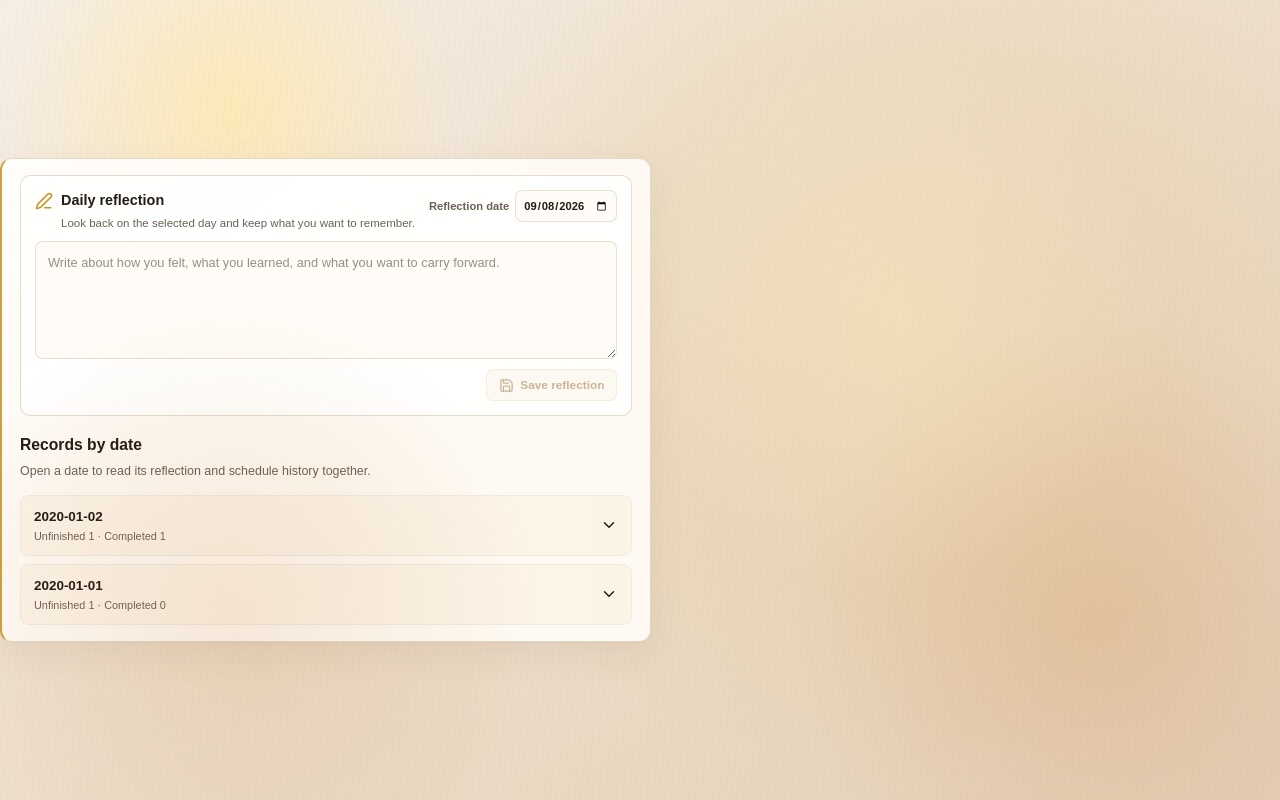
Test case: daily reflection editor and history › opens each date with its reflection above completed and unfinished schedule records
This screenshot has width=1280, height=800.
Click the 1st button with class "accordion-header": (68, 516) 21,496 -> 631,555
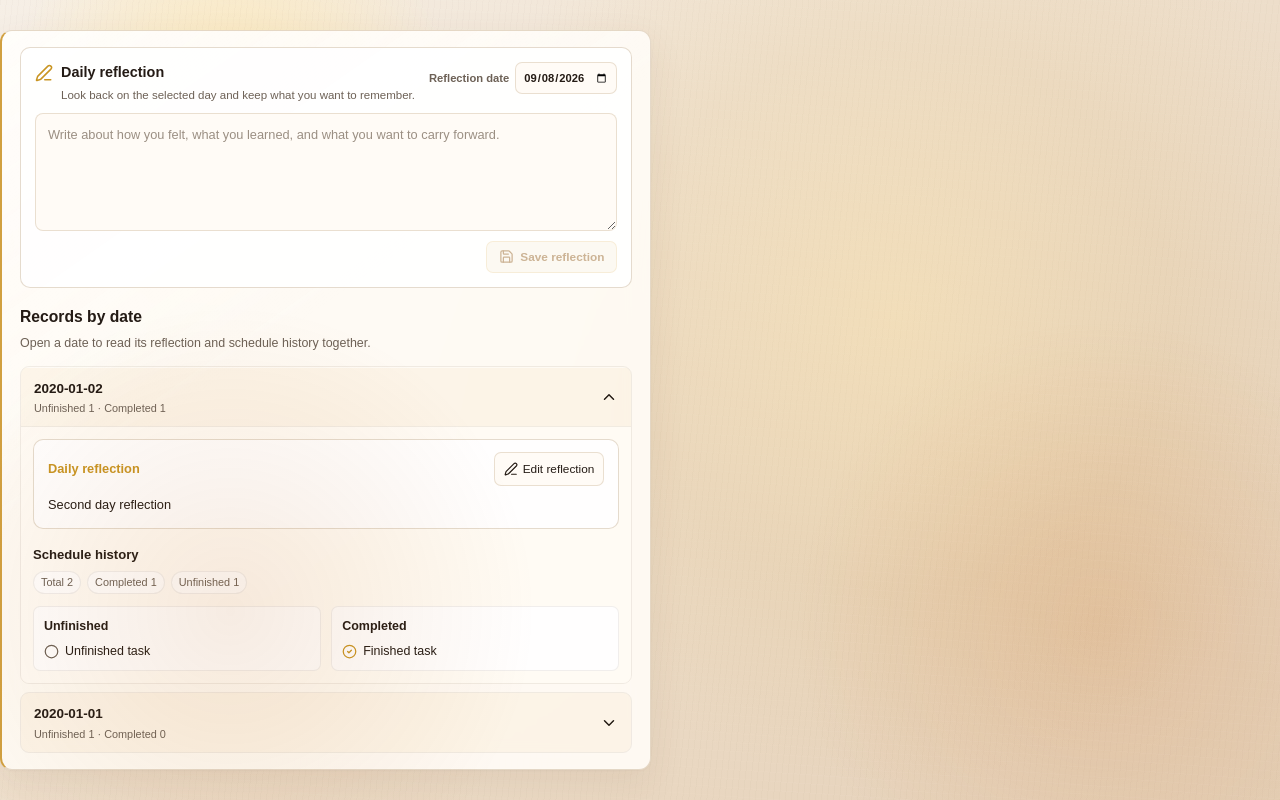
Now the button with class "accordion-header" is expanded
Now the text with class "daily-reflection-content" reads "Second day reflection", box 48,497 -> 171,512
Now the icon with class "done" is shown, box 342,644 -> 357,659
Click the 1st button with class "accordion-header": (68, 388) 21,367 -> 631,426
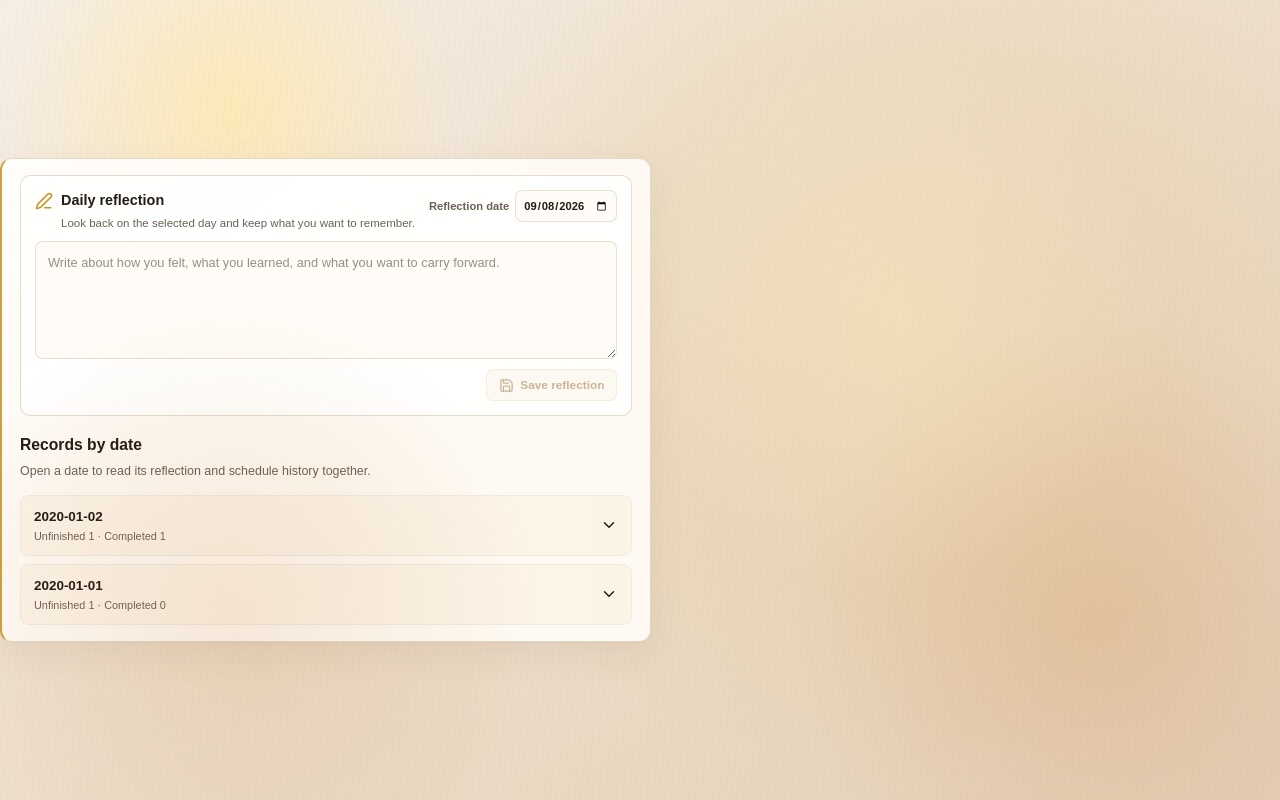
Now the button with class "accordion-header" is collapsed, box 21,496 -> 631,555
Now the element with class "accordion-body" is gone
